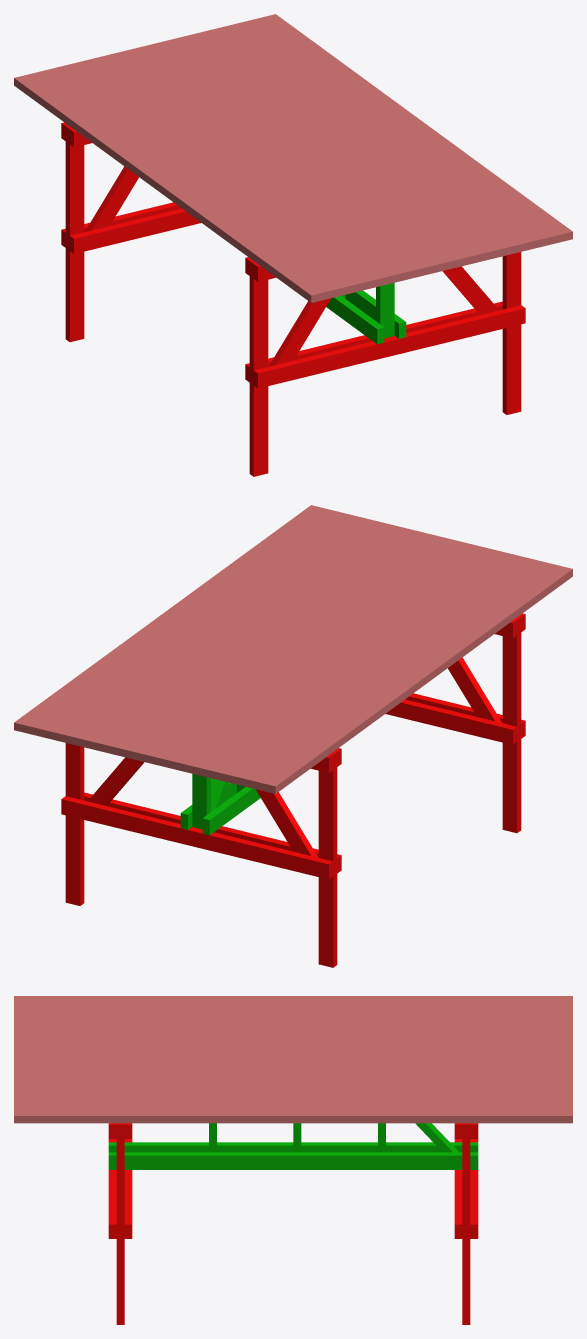
The model's file is result.glb.
The picture shows the model from 3 angles, top to bottom: view 1: azimuth 30°, elevation 25°; view 2: azimuth 150°, elevation 25°; view 3: azimuth 270°, elevation 25°; orthographic projection. The views are drawn at different scales.
Visible parts, largest first — view 1: 43b287b0-50c2-4cfe-8bc3-6a6f95101d9b__Box, d339029b-83c7-4def-8f13-b8e3561e4796__sideH, 793a4d87-b87c-4f36-b63a-b9035124b6f4__undefined, 5ad7fb5b-1978-4c60-a310-cfbb5b236e79__undefined, 96aa4cd2-001c-4344-a4ef-ea3f3df56195__undefined, bb8e0138-0a08-482a-a399-c8a9eef7051e__undefined, d30db015-ff5f-43f7-80a0-40696e8c516b__undefined, cea28758-151e-4871-8fac-1a97dd00d3a8__undefined, 52cfa9ef-1121-4dec-bf40-5b1bf583f305__undefined, 16f31cbf-94c0-47f5-bf31-edd2048b1430__undefined, 0522595b-660a-49f2-97c6-bbb71076d5bc__undefined, 2b9d1222-6922-48ca-9e21-728308997fbf__undefined (+19 smaller); view 2: 43b287b0-50c2-4cfe-8bc3-6a6f95101d9b__Box, 4a9f8cbd-300b-4bf6-b409-beaf1c662256__undefined, 793a4d87-b87c-4f36-b63a-b9035124b6f4__undefined, 5ad7fb5b-1978-4c60-a310-cfbb5b236e79__undefined, 96aa4cd2-001c-4344-a4ef-ea3f3df56195__undefined, bb8e0138-0a08-482a-a399-c8a9eef7051e__undefined, d30db015-ff5f-43f7-80a0-40696e8c516b__undefined, cea28758-151e-4871-8fac-1a97dd00d3a8__undefined, 52cfa9ef-1121-4dec-bf40-5b1bf583f305__undefined, 16f31cbf-94c0-47f5-bf31-edd2048b1430__undefined, 0522595b-660a-49f2-97c6-bbb71076d5bc__undefined, 2b9d1222-6922-48ca-9e21-728308997fbf__undefined (+18 smaller); view 3: 61465b93-0c5d-4a10-8d1f-f2191f25b8bc__undefined, aec0bf48-83bf-4e28-84f5-ca94097ac7ab__strutH, 5ad7fb5b-1978-4c60-a310-cfbb5b236e79__undefined, 16f31cbf-94c0-47f5-bf31-edd2048b1430__undefined, 3ac80ae0-2142-4b82-bce0-999b17d99db5__undefined, 793a4d87-b87c-4f36-b63a-b9035124b6f4__undefined, de7f2ae3-c2ee-4347-8d5b-c884515e5764__undefined, cea28758-151e-4871-8fac-1a97dd00d3a8__undefined, 43b287b0-50c2-4cfe-8bc3-6a6f95101d9b__Box, 52cfa9ef-1121-4dec-bf40-5b1bf583f305__undefined, 12256a4d-67a4-46b7-b60e-d1e3ffe14ca8__undefined, d30db015-ff5f-43f7-80a0-40696e8c516b__undefined (+15 smaller).
Boxes of the visible parts, bbox=[...] form: 43b287b0-50c2-4cfe-8bc3-6a6f95101d9b__Box: bbox=[14, 74, 325, 302]; d339029b-83c7-4def-8f13-b8e3561e4796__sideH: bbox=[253, 305, 525, 388]; 793a4d87-b87c-4f36-b63a-b9035124b6f4__undefined: bbox=[160, 39, 471, 267]; 5ad7fb5b-1978-4c60-a310-cfbb5b236e79__undefined: bbox=[29, 71, 340, 299]; 96aa4cd2-001c-4344-a4ef-ea3f3df56195__undefined: bbox=[189, 32, 500, 260]; bb8e0138-0a08-482a-a399-c8a9eef7051e__undefined: bbox=[218, 25, 529, 253]; d30db015-ff5f-43f7-80a0-40696e8c516b__undefined: bbox=[87, 56, 398, 285]; cea28758-151e-4871-8fac-1a97dd00d3a8__undefined: bbox=[247, 17, 558, 246]; 52cfa9ef-1121-4dec-bf40-5b1bf583f305__undefined: bbox=[43, 67, 354, 295]; 16f31cbf-94c0-47f5-bf31-edd2048b1430__undefined: bbox=[72, 60, 383, 288]; 0522595b-660a-49f2-97c6-bbb71076d5bc__undefined: bbox=[130, 46, 441, 274]; 2b9d1222-6922-48ca-9e21-728308997fbf__undefined: bbox=[174, 35, 485, 263]; 43b287b0-50c2-4cfe-8bc3-6a6f95101d9b__Box: bbox=[261, 565, 572, 793]; 4a9f8cbd-300b-4bf6-b409-beaf1c662256__undefined: bbox=[61, 796, 333, 879]; 793a4d87-b87c-4f36-b63a-b9035124b6f4__undefined: bbox=[115, 530, 426, 758]; 5ad7fb5b-1978-4c60-a310-cfbb5b236e79__undefined: bbox=[246, 562, 557, 790]; 96aa4cd2-001c-4344-a4ef-ea3f3df56195__undefined: bbox=[86, 523, 397, 751]; bb8e0138-0a08-482a-a399-c8a9eef7051e__undefined: bbox=[57, 516, 368, 744]; d30db015-ff5f-43f7-80a0-40696e8c516b__undefined: bbox=[188, 547, 499, 776]; cea28758-151e-4871-8fac-1a97dd00d3a8__undefined: bbox=[28, 508, 339, 737]; 52cfa9ef-1121-4dec-bf40-5b1bf583f305__undefined: bbox=[232, 558, 543, 786]; 16f31cbf-94c0-47f5-bf31-edd2048b1430__undefined: bbox=[203, 551, 514, 779]; 0522595b-660a-49f2-97c6-bbb71076d5bc__undefined: bbox=[145, 537, 456, 765]; 2b9d1222-6922-48ca-9e21-728308997fbf__undefined: bbox=[101, 526, 412, 754]; 61465b93-0c5d-4a10-8d1f-f2191f25b8bc__undefined: bbox=[14, 1109, 572, 1123]; aec0bf48-83bf-4e28-84f5-ca94097ac7ab__strutH: bbox=[108, 1152, 478, 1169]; 5ad7fb5b-1978-4c60-a310-cfbb5b236e79__undefined: bbox=[14, 1002, 572, 1009]; 16f31cbf-94c0-47f5-bf31-edd2048b1430__undefined: bbox=[14, 1022, 572, 1029]; 3ac80ae0-2142-4b82-bce0-999b17d99db5__undefined: bbox=[14, 1042, 572, 1049]; 793a4d87-b87c-4f36-b63a-b9035124b6f4__undefined: bbox=[14, 1062, 572, 1069]; de7f2ae3-c2ee-4347-8d5b-c884515e5764__undefined: bbox=[14, 1082, 572, 1089]; cea28758-151e-4871-8fac-1a97dd00d3a8__undefined: bbox=[14, 1102, 572, 1109]; 43b287b0-50c2-4cfe-8bc3-6a6f95101d9b__Box: bbox=[14, 996, 572, 1002]; 52cfa9ef-1121-4dec-bf40-5b1bf583f305__undefined: bbox=[14, 1009, 572, 1015]; 12256a4d-67a4-46b7-b60e-d1e3ffe14ca8__undefined: bbox=[14, 1016, 572, 1022]; d30db015-ff5f-43f7-80a0-40696e8c516b__undefined: bbox=[14, 1029, 572, 1035].
Bounding box in the file's own units: 920 × 725 × 1770.
